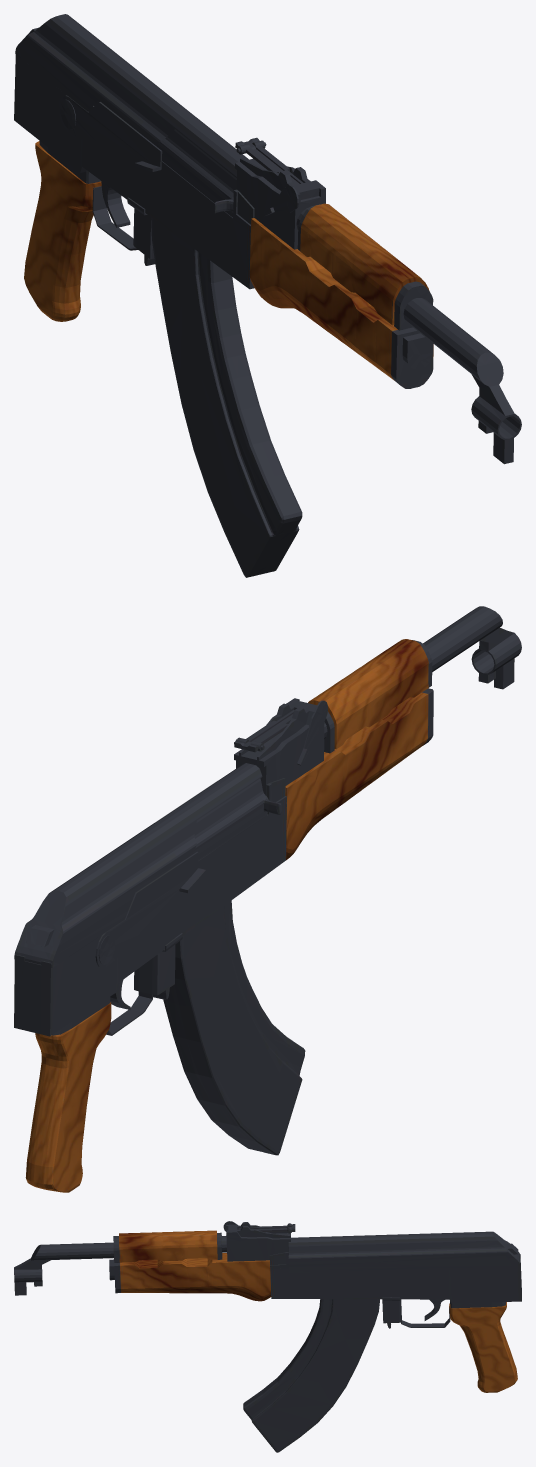
File: rifle.glb
3 renders of one model, top to bottom at view 1: azimuth 30°, elevation 25°; view 2: azimuth 150°, elevation 25°; view 3: azimuth 270°, elevation 25°, orthographic. The views are drawn at different scales.
Parts seen in each view (by area): view 1: rifle; view 2: rifle; view 3: rifle.
Boxes of the visible parts, x1,y1,x2,y2 form: rifle: (14, 14, 521, 577); rifle: (14, 606, 521, 1192); rifle: (14, 1221, 521, 1452).
Bounding box in the file's own units: 0.0355 × 0.2669 × 0.5456.
1 material, 1 textured.
